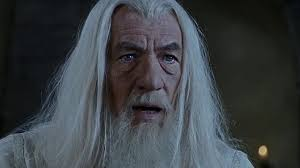gandalf gray: (10, 4, 255, 161)
